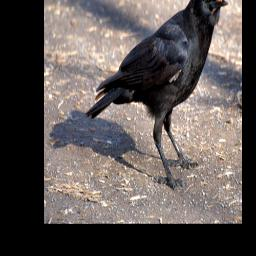Crow: (86, 0, 228, 191)
